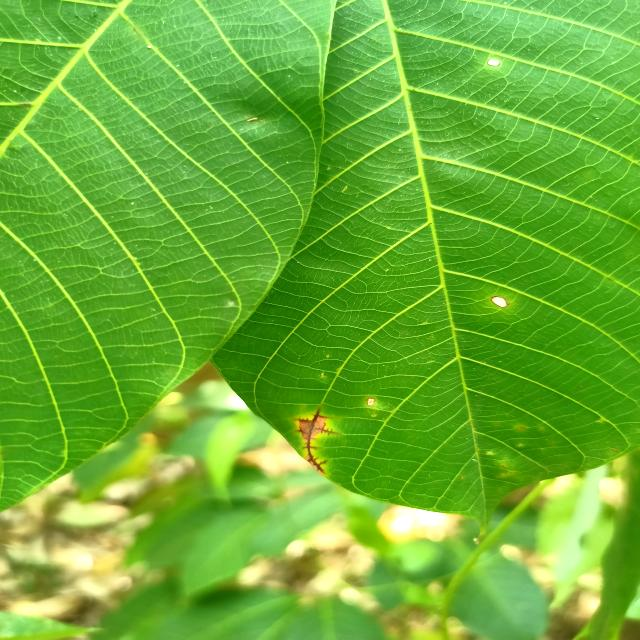Colletotrichum: (490, 296, 509, 308), (486, 58, 500, 67)
Corynespora: (292, 405, 338, 474)
